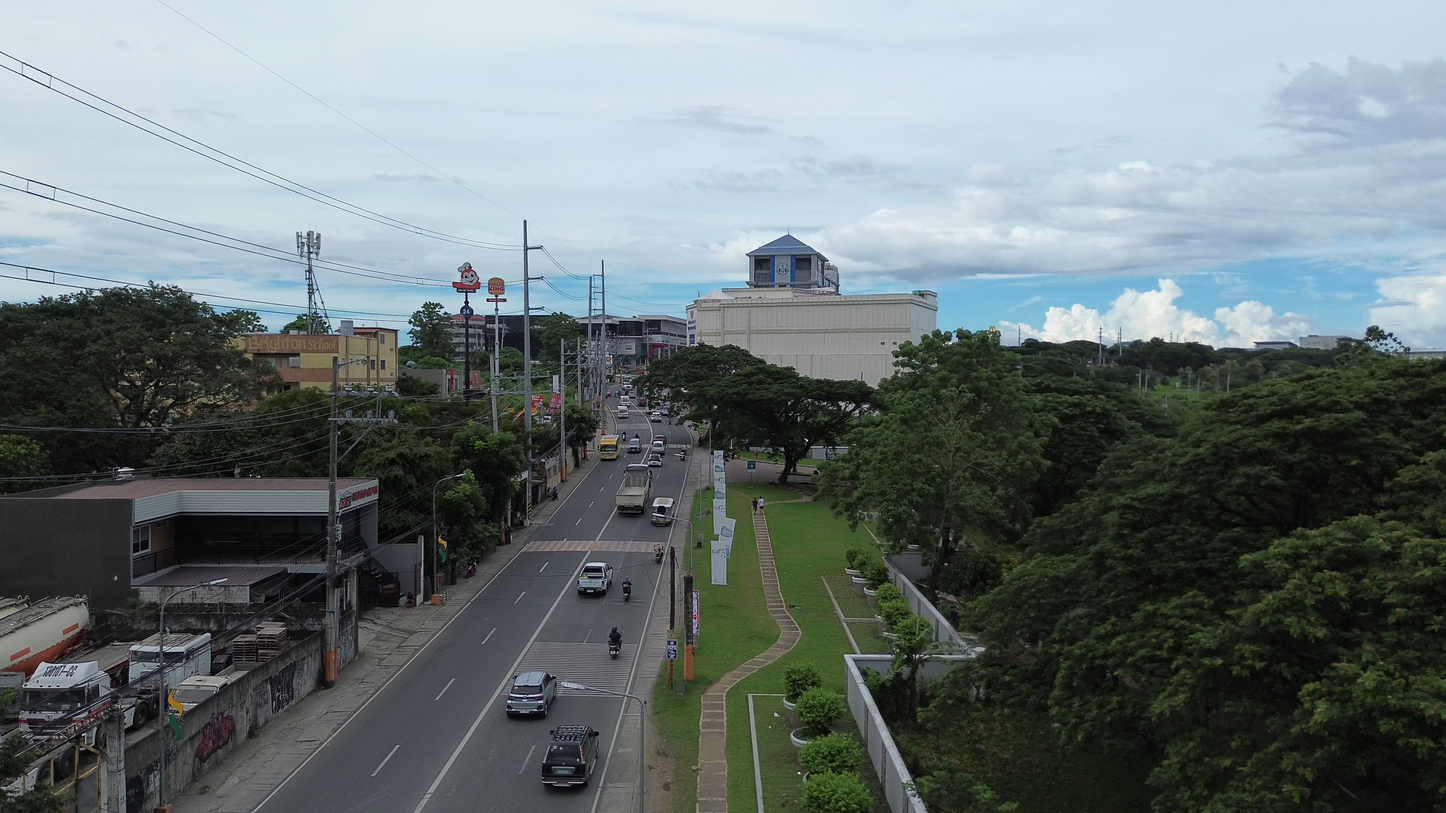car: (646, 452, 663, 467), (617, 406, 630, 418)
motorcycle: (609, 642, 620, 659), (622, 585, 631, 602), (654, 547, 663, 563)
truck: (20, 633, 210, 738)
vehicle: (20, 661, 115, 738), (0, 597, 89, 678), (541, 725, 599, 787), (163, 633, 211, 687), (506, 671, 557, 717), (171, 675, 230, 713), (615, 464, 651, 513), (577, 562, 614, 595), (650, 497, 674, 525), (599, 435, 618, 460), (646, 451, 663, 467), (651, 436, 665, 455), (608, 642, 621, 659), (628, 437, 641, 452), (616, 406, 630, 419), (650, 411, 662, 422)
